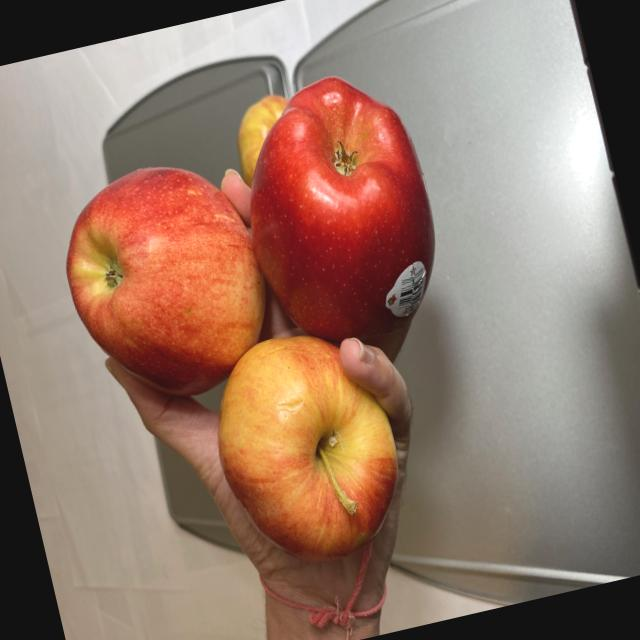apple: (34, 54, 504, 614)
